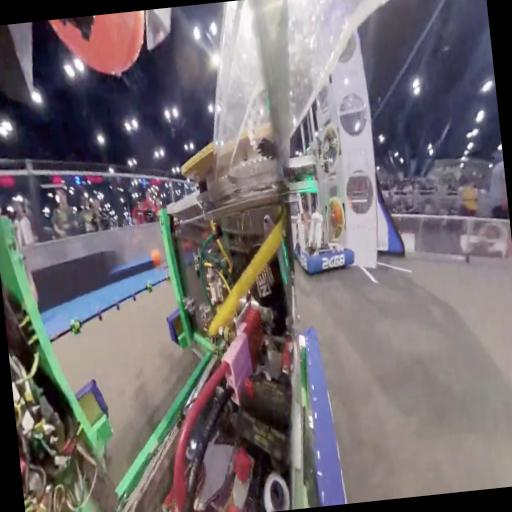robot: (287, 182, 356, 276)
